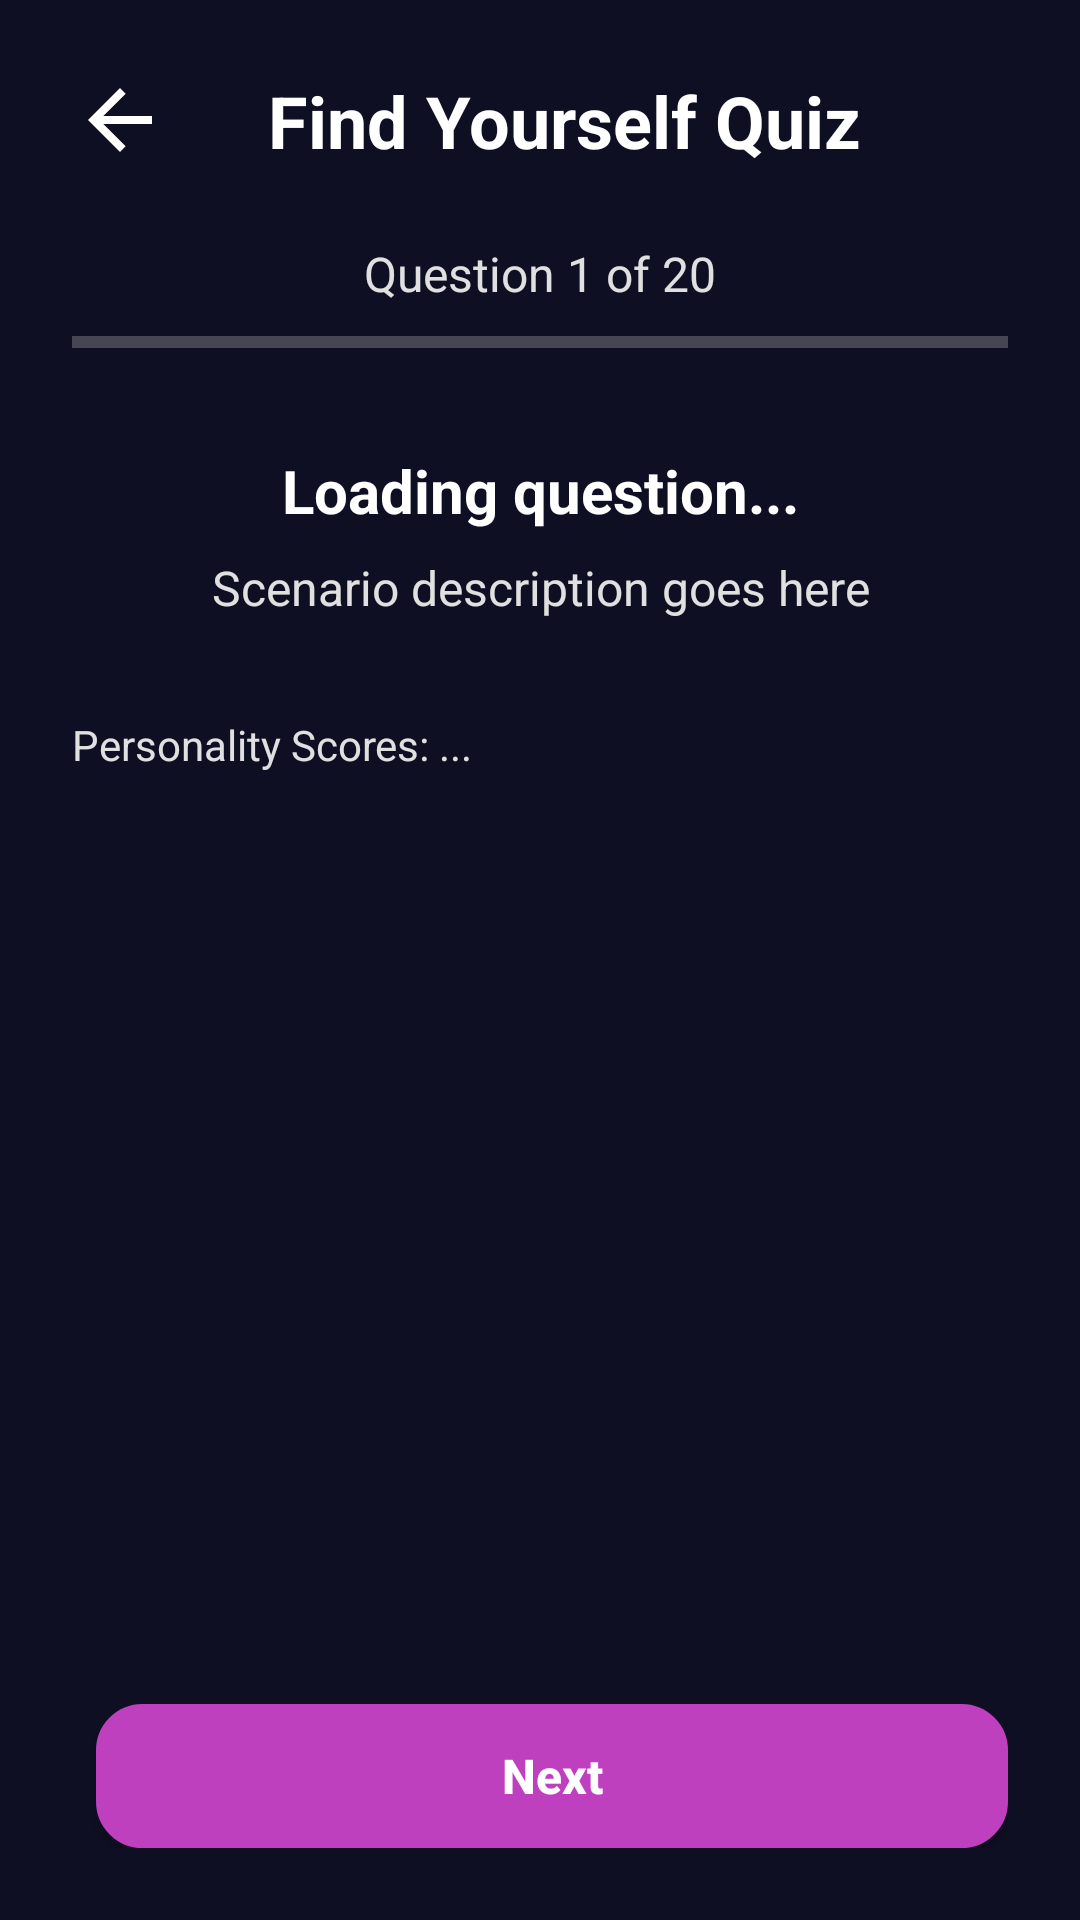

Point at icon controls on the screen. Image size 1080px x 1920px, points as (x=x, y=y).
Back: (x=120, y=120)
